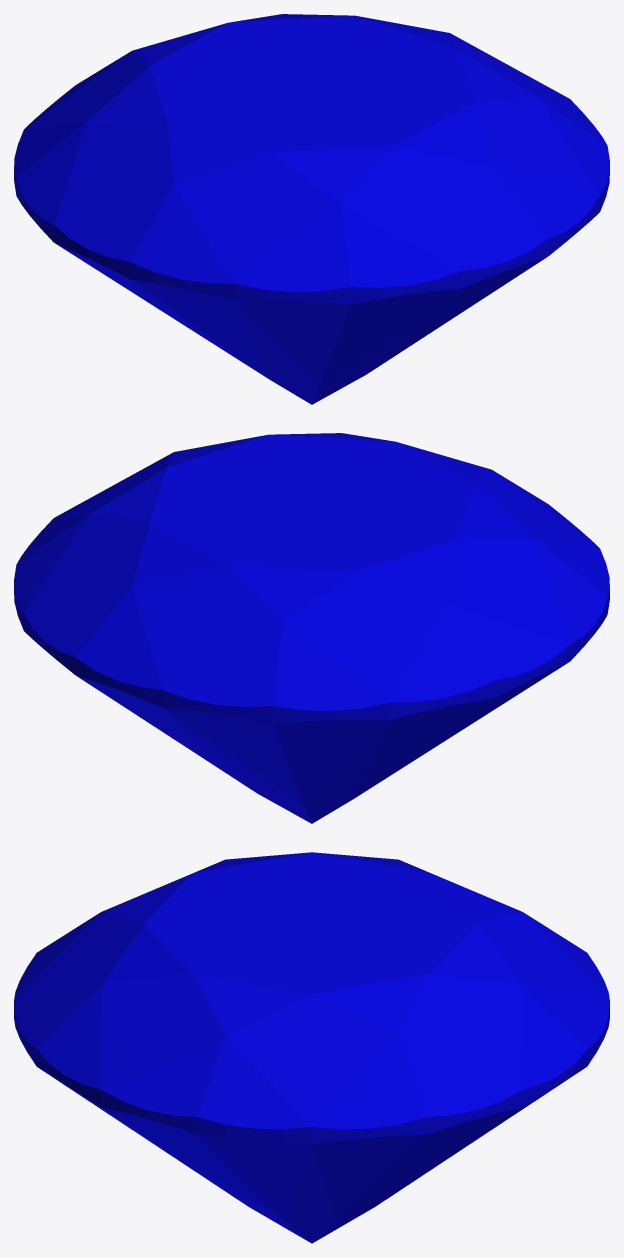
Rendered from Head_No Halo_Round_3.0ct_Diamond.glb.
3 renders of one model, top to bottom at view 1: azimuth 30°, elevation 25°; view 2: azimuth 150°, elevation 25°; view 3: azimuth 270°, elevation 25°, orthographic.
Size of the model in its own units: 0.00927 by 0.00551 by 0.00928.
